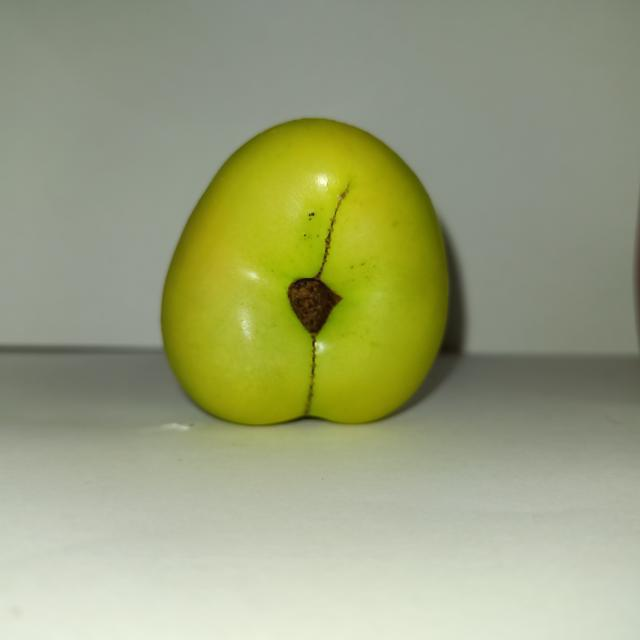Red: (159, 115, 451, 426)
